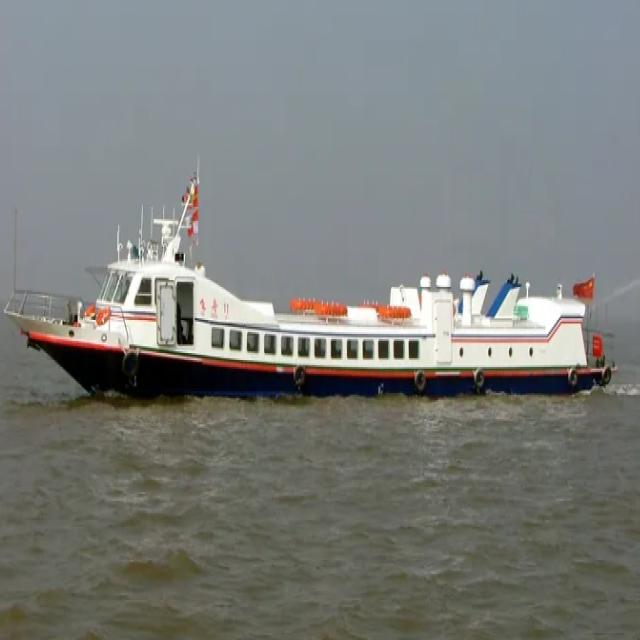houseboat: (1, 171, 616, 415)
